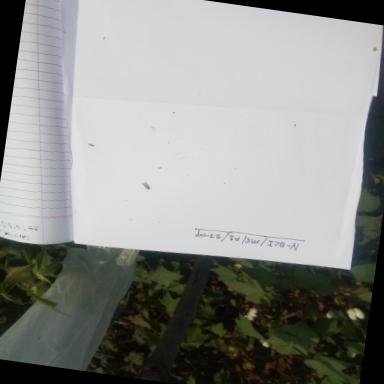pbw: (140, 180, 153, 194)
